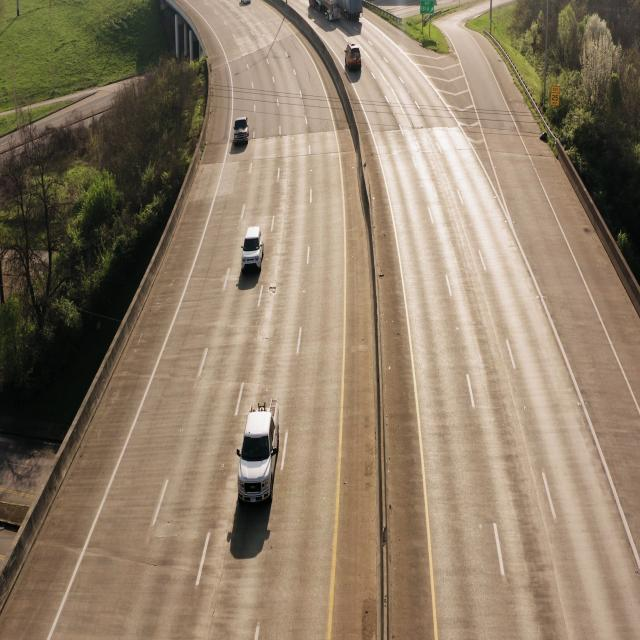Car: (239, 394, 282, 513), (240, 225, 264, 279), (345, 39, 363, 75), (232, 115, 250, 150)
